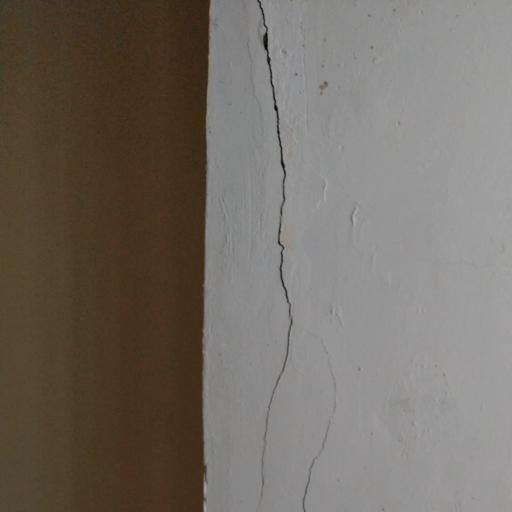minor_crack: (245, 0, 342, 512)
